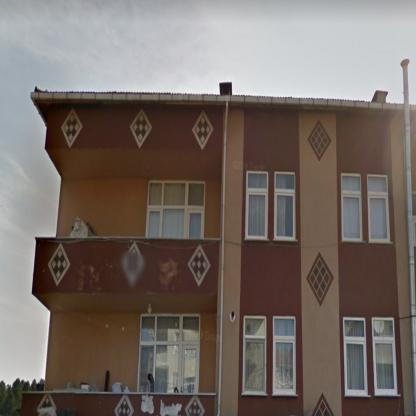window: (139, 315, 199, 393), (147, 182, 205, 238), (244, 318, 267, 392), (343, 319, 366, 393), (273, 317, 295, 392), (373, 320, 396, 391), (246, 172, 267, 238), (341, 174, 361, 240), (368, 176, 388, 240), (276, 172, 294, 238)
